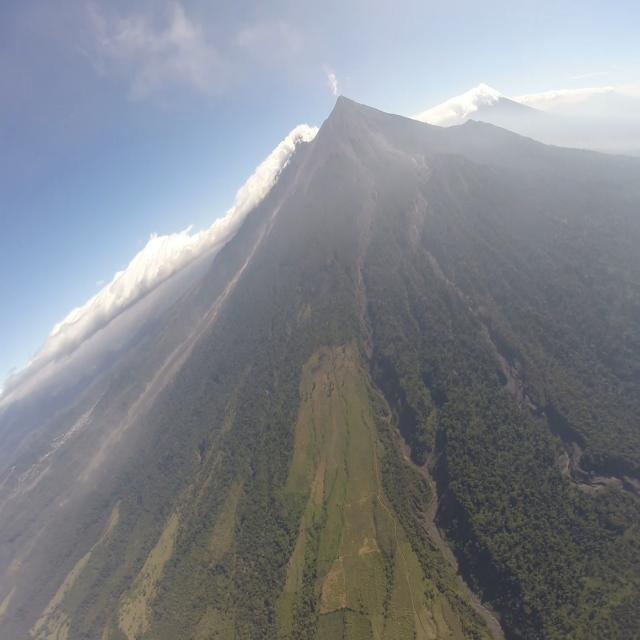Plume: (330, 74, 340, 96)
Summit: (331, 92, 354, 115)
